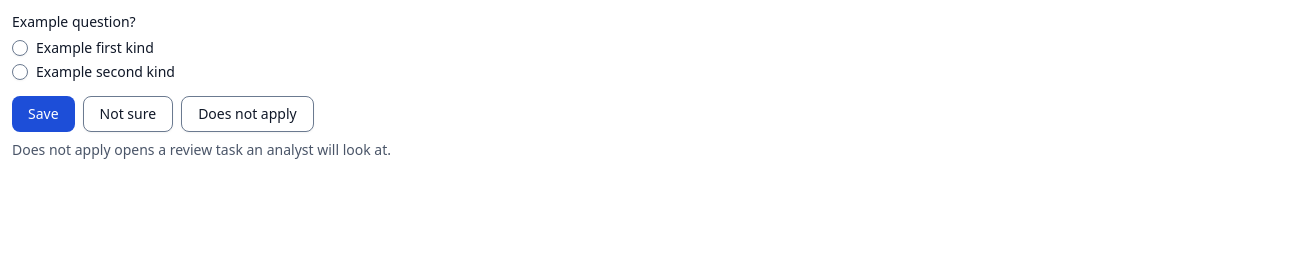
Scenario: AnswerForm › shows only the problem when there is nothing else to say
The image size is (1292, 266).
Click the button "Not sure": (128, 114) [83, 96, 173, 132]
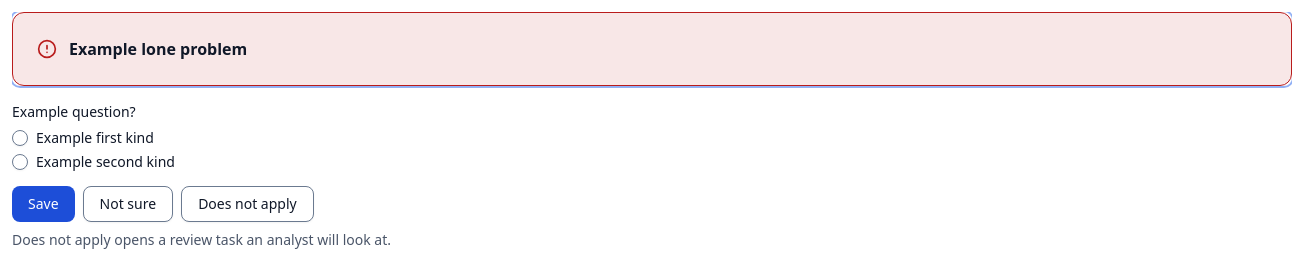
Expected: the text "Example lone problem" is shown, [69, 38, 247, 60]
